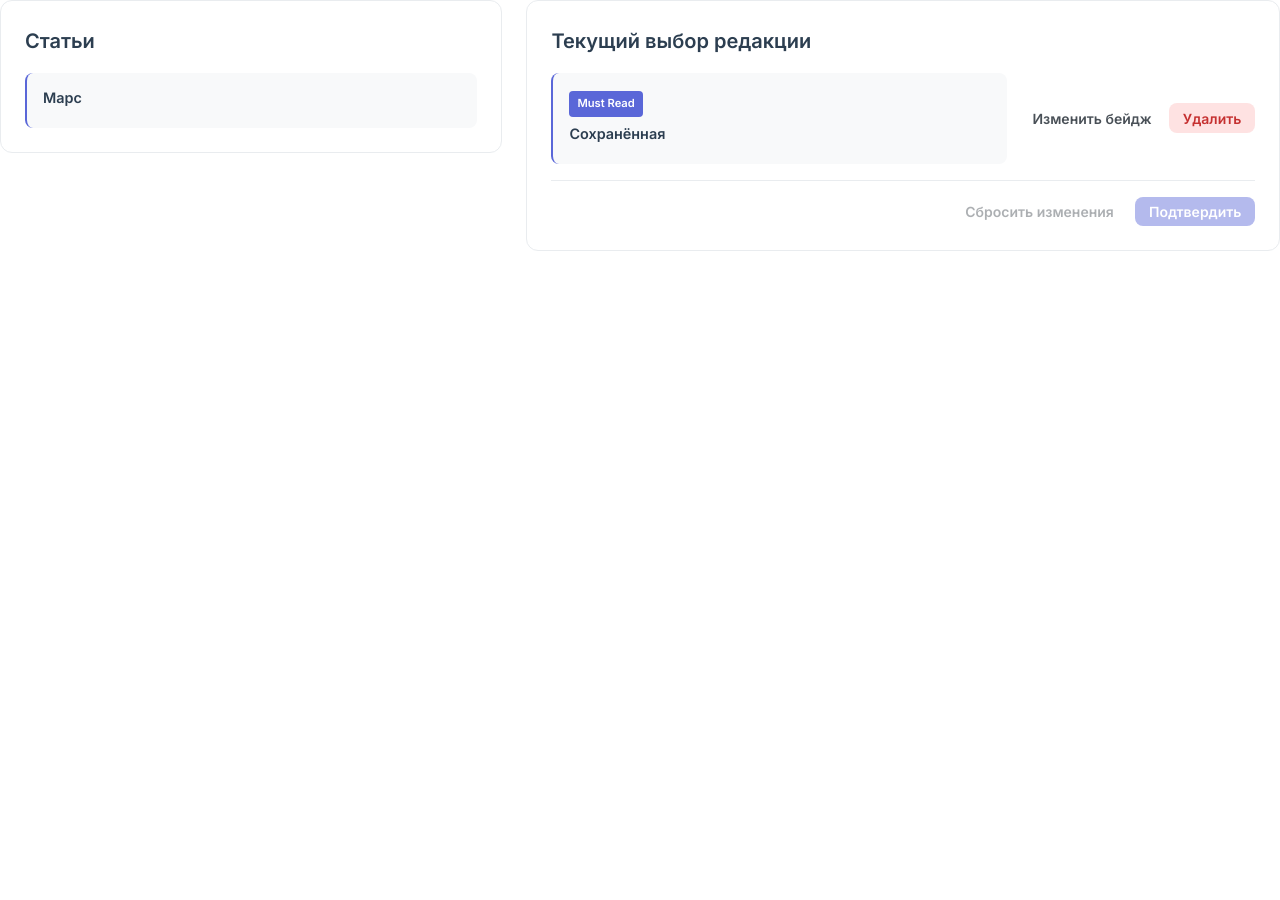
EditorsPickEditor › keeps the draft and shows the error when saving fails
Click the button "Марс" at point(251, 100), box [25,73,477,128]
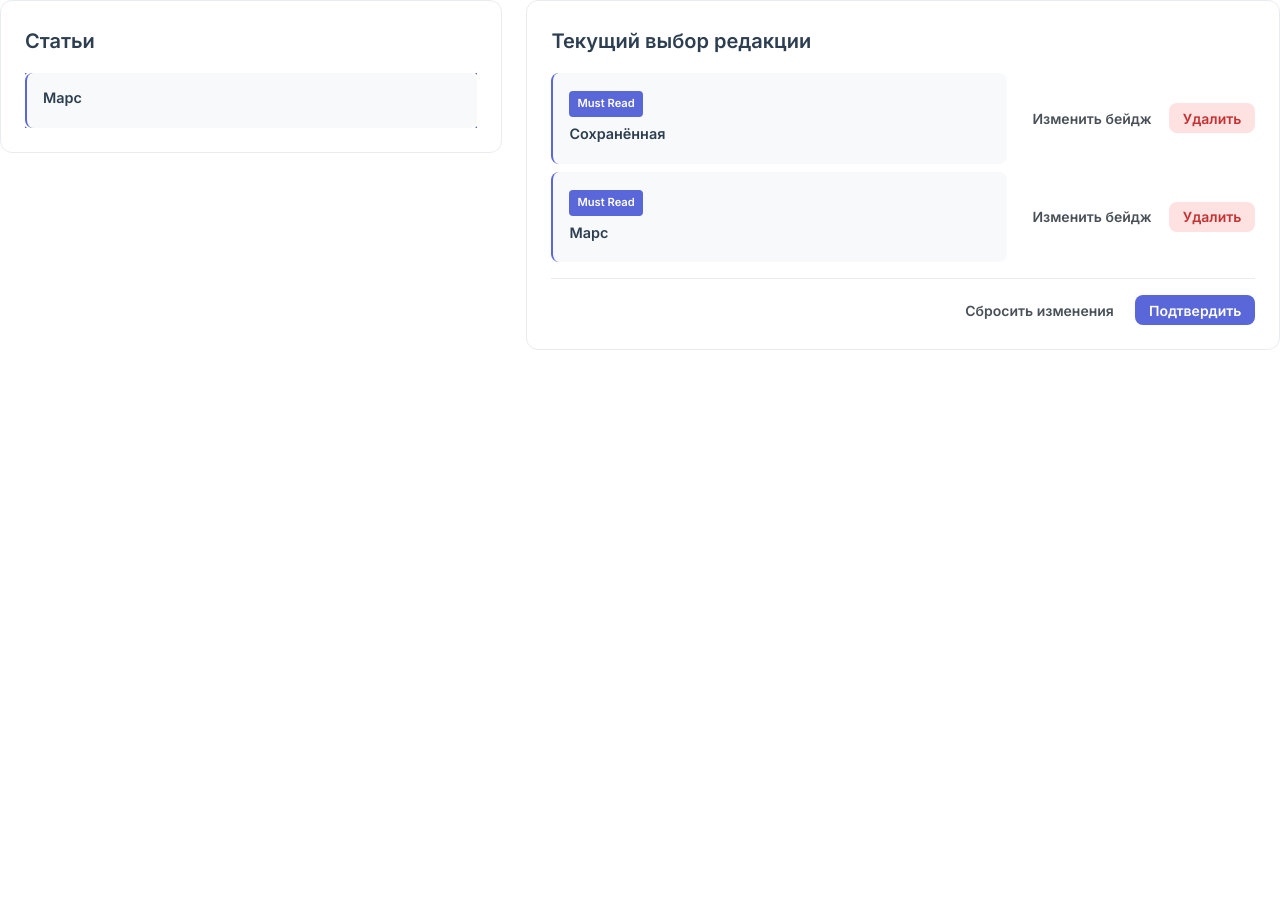
Click the button "Подтвердить" at point(1195, 310), box [1135,295,1255,325]
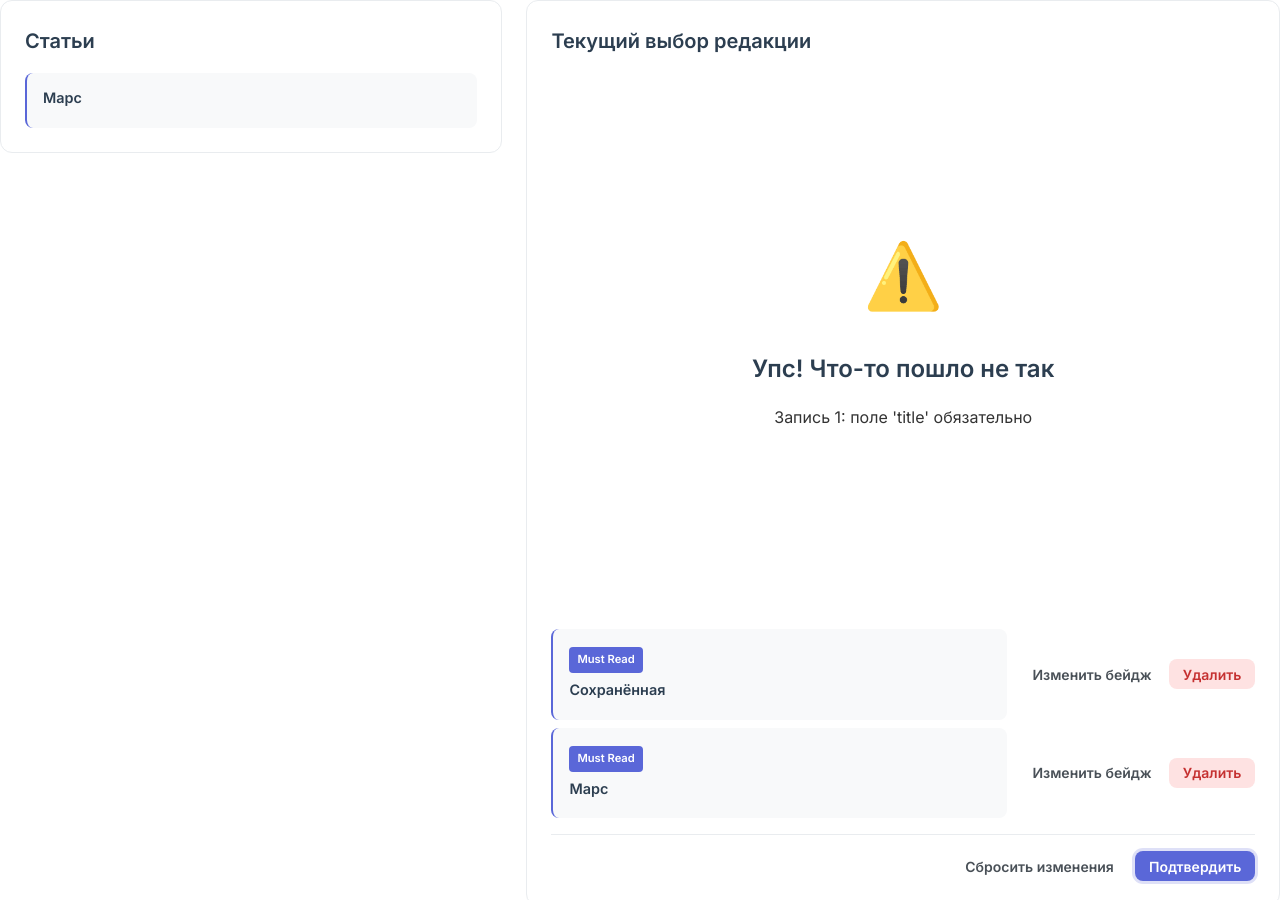
Expected: the button "Подтвердить" is enabled, [1135,851,1255,881]
Expected: the text "Запись 1: поле 'title' обязательно" is shown, [774,405,1032,430]
